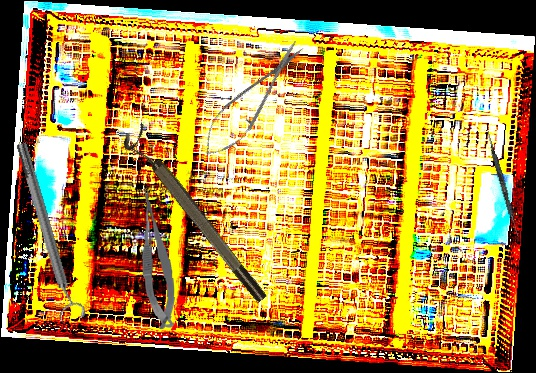Fixation Ring: (118, 122, 271, 312), (8, 139, 88, 324)
Micro Scissor: (192, 32, 314, 167), (137, 186, 178, 332)
Spatula Surgical: (483, 131, 524, 243)
